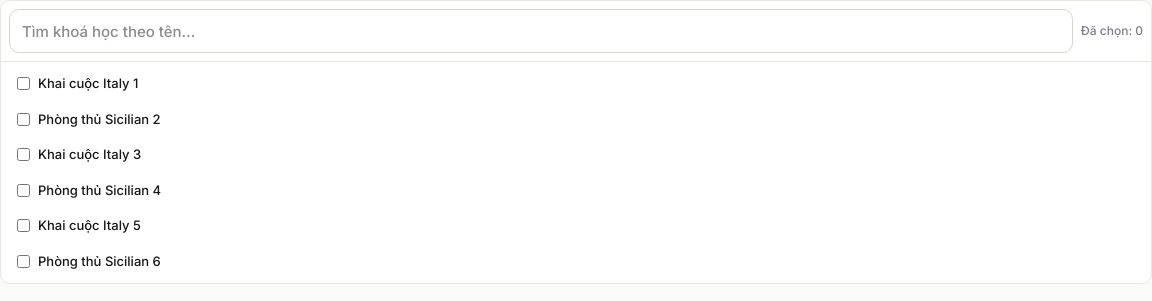
Test: CourseMultiSelect › filters the option list to titles matching the search input (case-insensitive)
Type "sicilian" into the search field with test id "course-multi-select-search".
click(541, 31); type("sicilian")  # box [9, 9, 1073, 53]
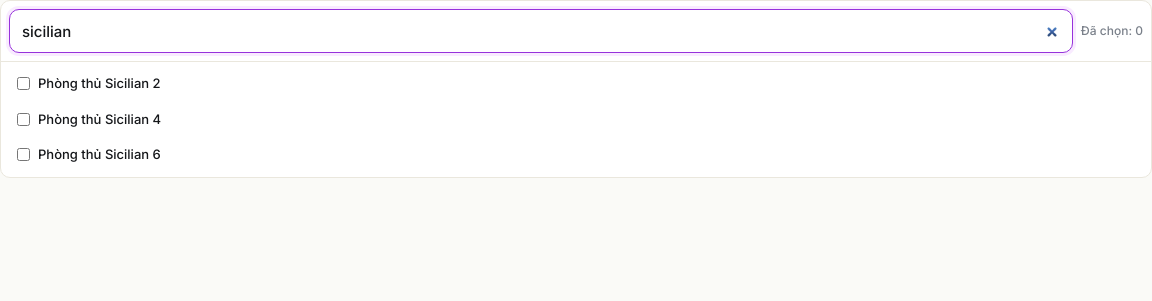
Expected: the option with test id "course-multi-select-option-c-2" is shown, [17, 75, 161, 91]
Expected: the option with test id "course-multi-select-option-c-1" is gone
